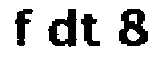8: (114, 5, 150, 50)
d: (44, 3, 79, 50)
f: (11, 6, 33, 50)
t: (81, 9, 104, 52)
